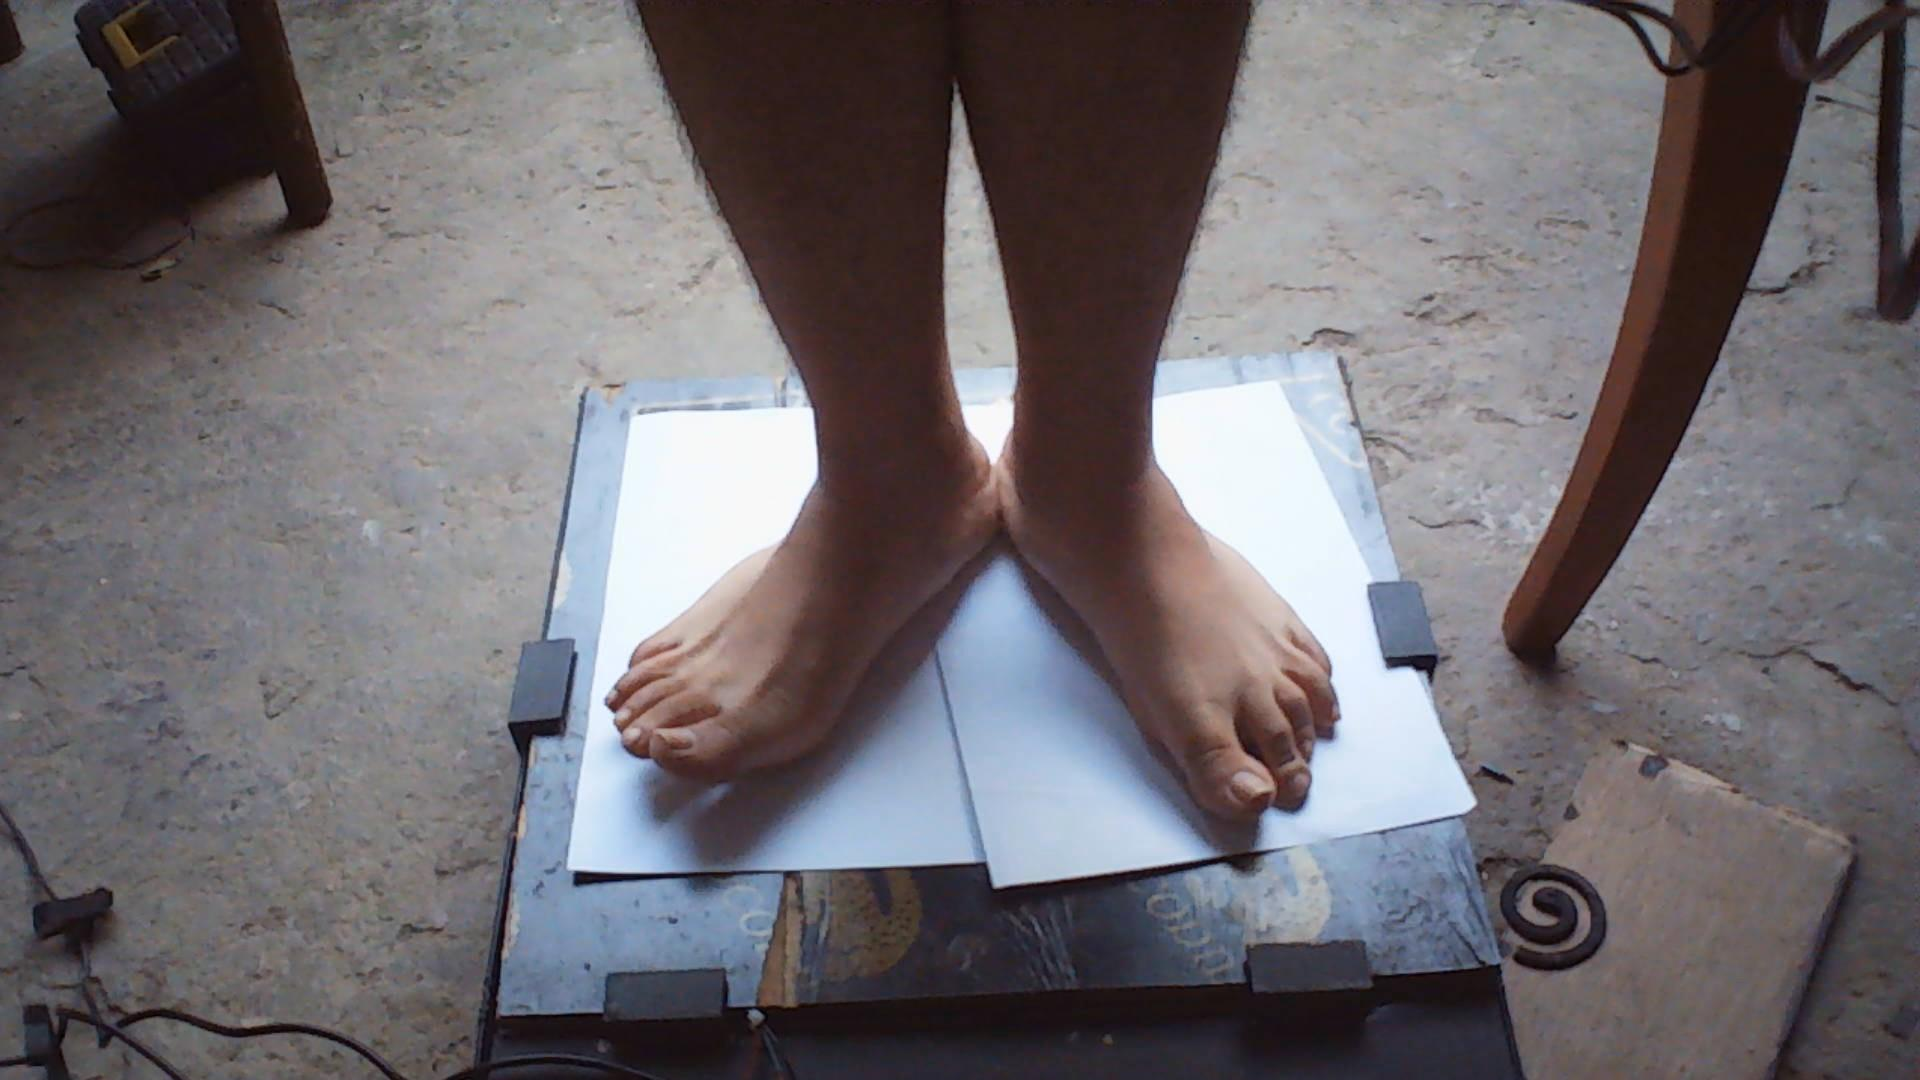Bare_feet: (584, 440, 1374, 847)
